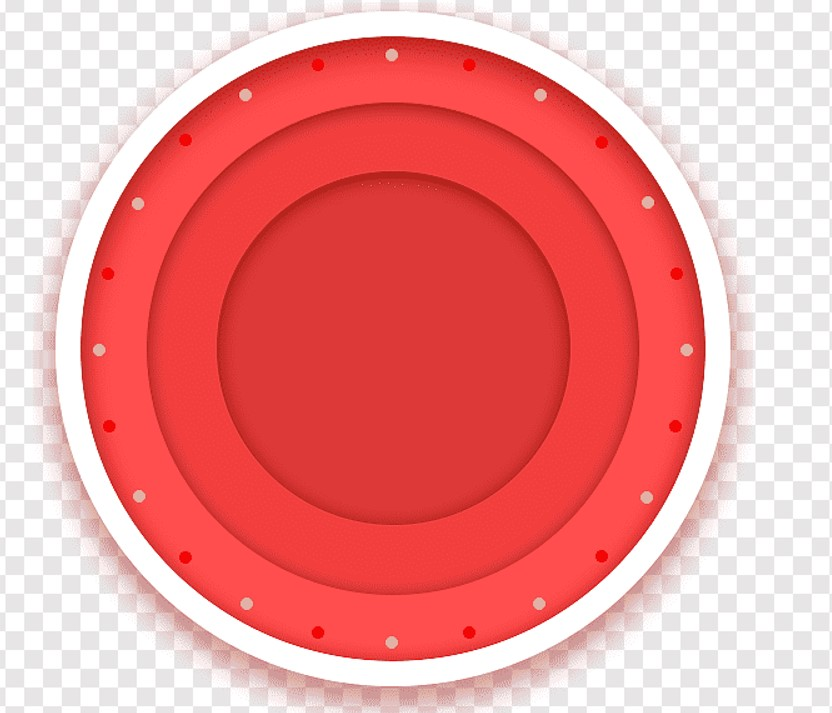su birakma alani: (146, 99, 642, 595)
